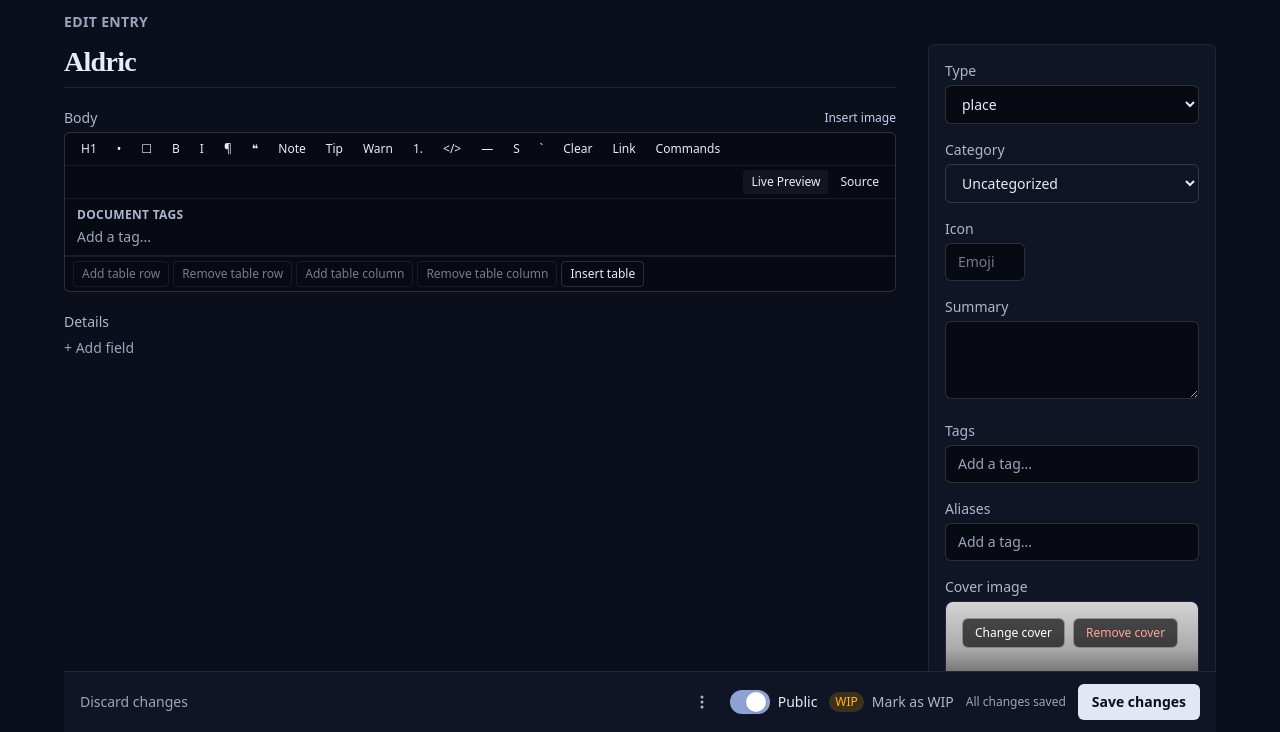
Test: Content-Forward Views §5 — editor hero › clears the cover and falls back to the monogram band when Remove is clicked
Click the button "Remove cover". click: (1126, 632)
box: top-left (1073, 618), bottom-right (1178, 648)
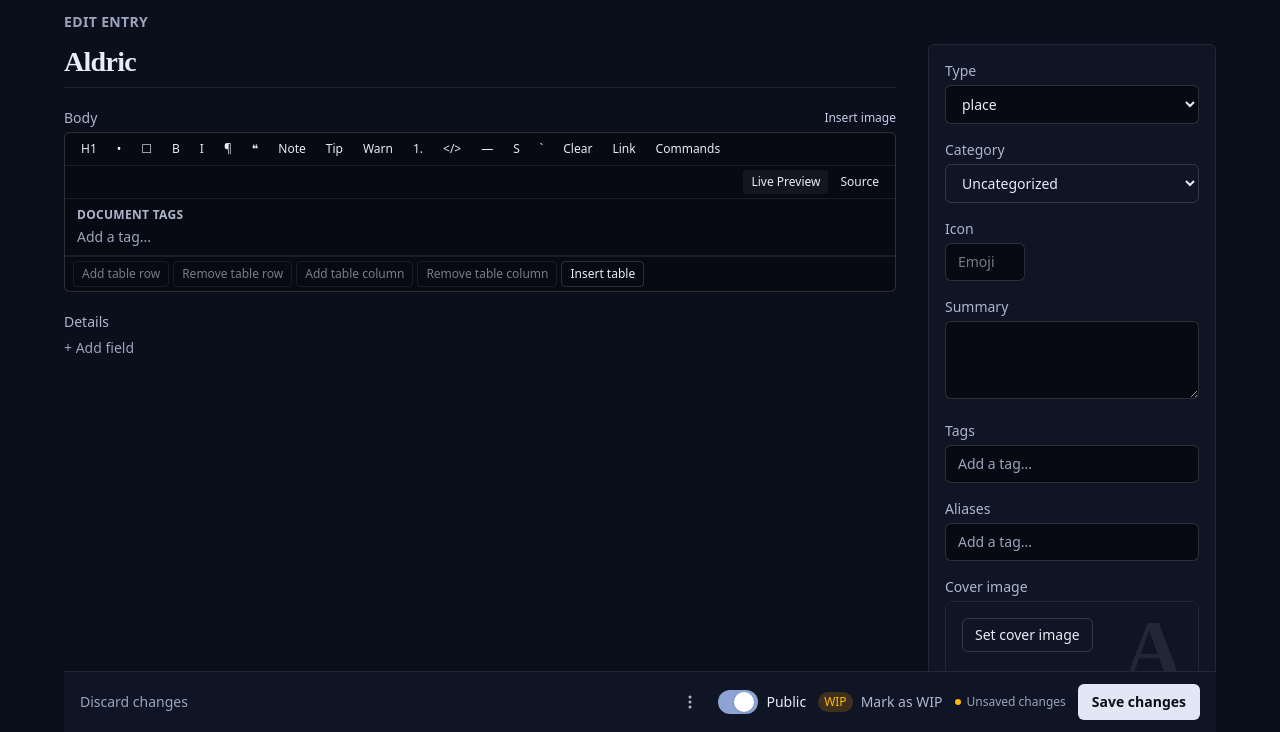
Expected: the text with test id "hero-monogram" reads "A", top-left (1124, 604), bottom-right (1182, 692)
Result: the picture is gone
